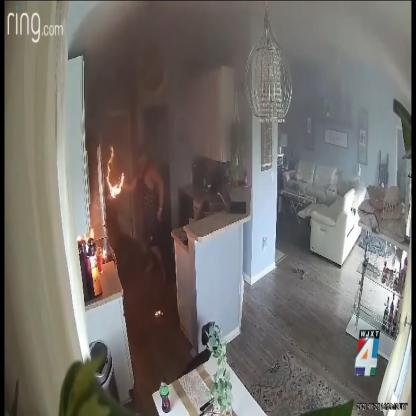fire: (107, 146, 124, 198)
